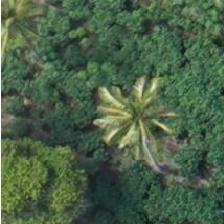coconut_tree: (80, 73, 170, 163)
